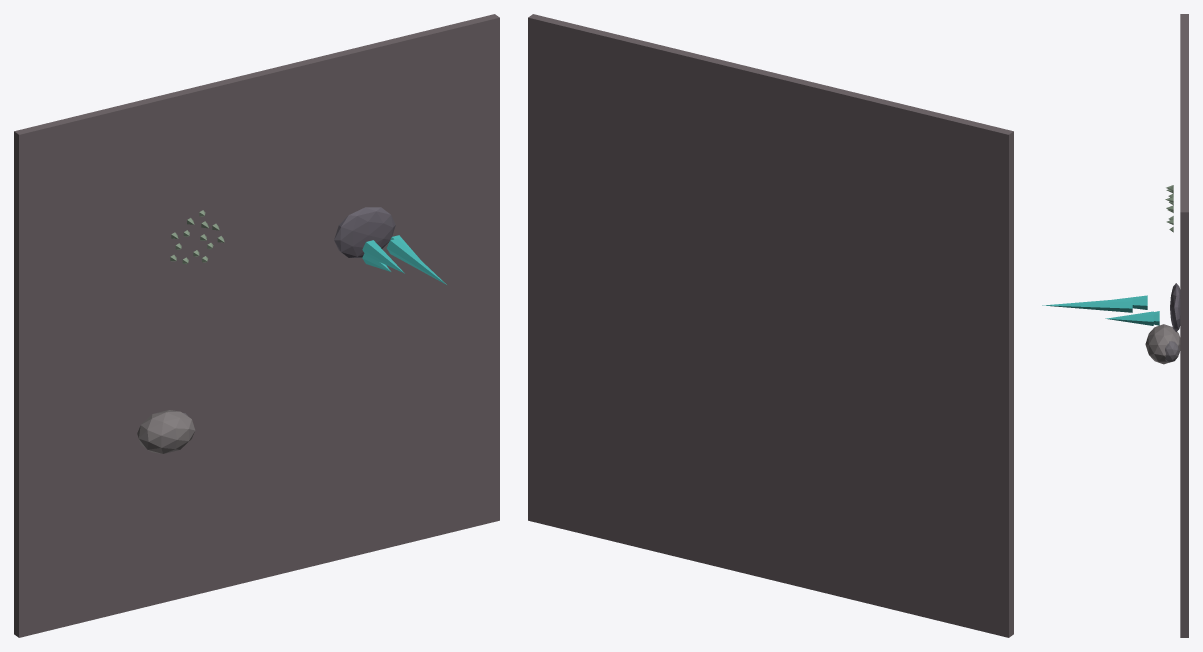
The model's file is VP_STAGE_02.glb.
The picture shows the model from 3 angles, left to right: view 1: azimuth 30°, elevation 25°; view 2: azimuth 150°, elevation 25°; view 3: azimuth 270°, elevation 25°; orthographic projection. The views are drawn at different scales.
Parts seen in each view (by area): view 1: world; view 2: world; view 3: world.
Boxes of the visible parts, x1,y1,x2,y2 form: world: (14, 14, 499, 637); world: (528, 14, 1013, 637); world: (1042, 14, 1188, 637).
Size of the model in its own units: 14 by 14 by 4.38.
